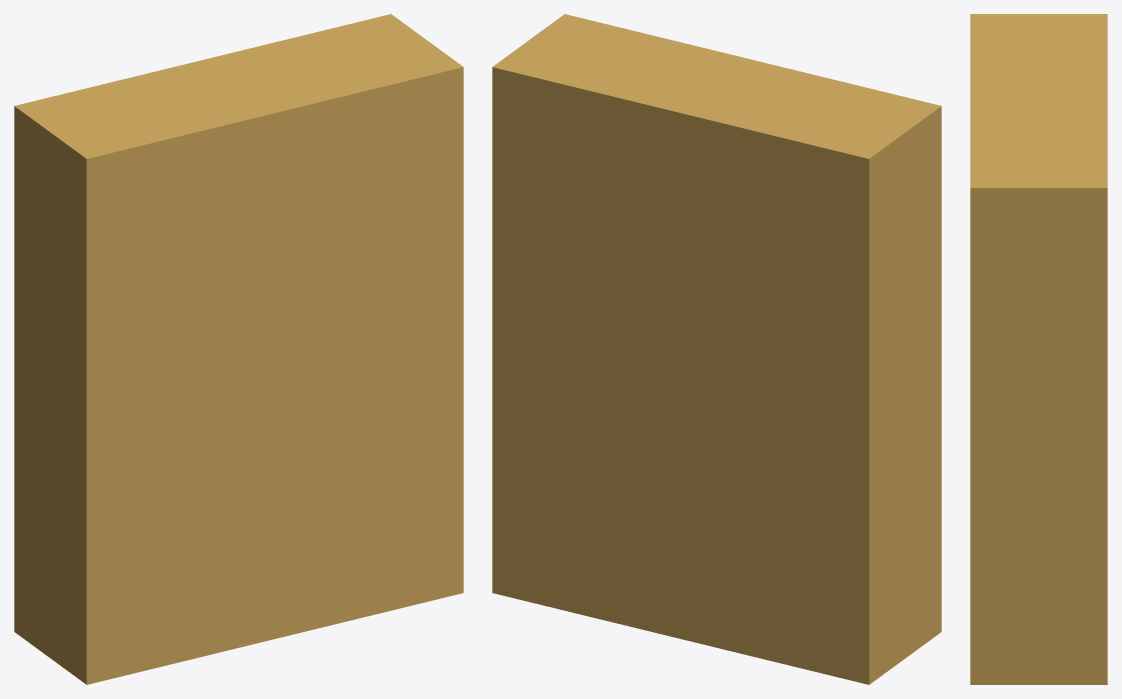
The model's file is pared3b.obj.
3 renders of one model, left to right at view 1: azimuth 30°, elevation 25°; view 2: azimuth 150°, elevation 25°; view 3: azimuth 270°, elevation 25°, orthographic. The views are drawn at different scales.
Parts seen in each view (by area): view 1: Wall.007; view 2: Wall.007; view 3: Wall.007.
Part boxes in pixels (bbox=[...]): Wall.007: bbox=[14, 14, 463, 684]; Wall.007: bbox=[492, 14, 941, 684]; Wall.007: bbox=[970, 14, 1107, 684].
Bounding box in the file's own units: 3 × 4 × 1.
2 materials, 2 textured.
